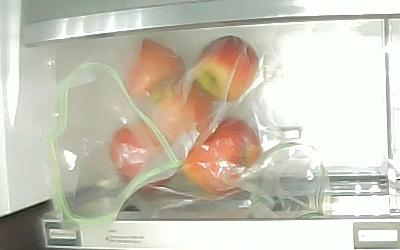apple_vinyl: (180, 116, 261, 197), (110, 120, 177, 194), (192, 35, 259, 101), (144, 84, 213, 146), (123, 39, 187, 104)
